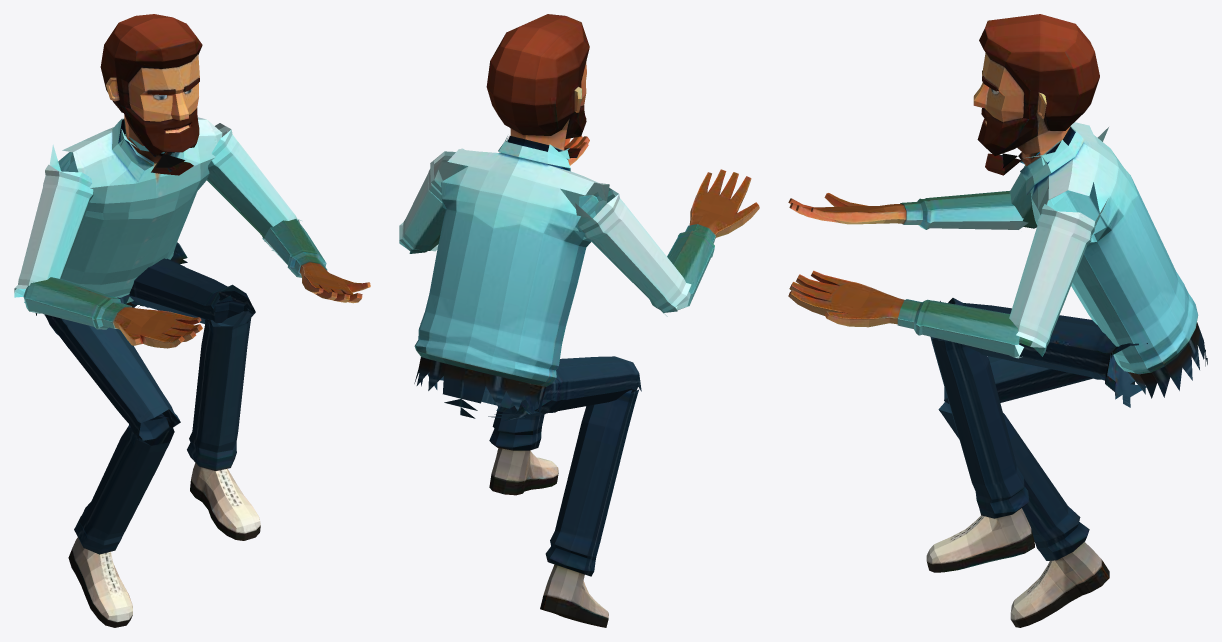
Rendered from cyclist.glb.
3 views of the same model, side by side, from view 1: azimuth 30°, elevation 25°; view 2: azimuth 150°, elevation 25°; view 3: azimuth 270°, elevation 25° (orthographic). The views are drawn at different scales.
Parts seen in each view (by area): view 1: torso, head, shin_L, shin_R, thigh_R, forearm_R, upperarm_R, thigh_L, upperarm_L, forearm_L; view 2: torso, shin_R, head, upperarm_R, forearm_R, thigh_R, shin_L, upperarm_L; view 3: torso, head, shin_L, shin_R, forearm_L, upperarm_L, forearm_R, thigh_L, thigh_R, upperarm_R.
Boxes of the visible parts, bbox=[...] form: torso: bbox=[35, 117, 222, 315]; head: bbox=[100, 14, 202, 156]; shin_L: bbox=[187, 295, 260, 540]; shin_R: bbox=[68, 415, 174, 627]; thigh_R: bbox=[44, 294, 180, 441]; forearm_R: bbox=[23, 277, 202, 348]; upperarm_R: bbox=[14, 144, 93, 302]; thigh_L: bbox=[129, 242, 255, 326]; upperarm_L: bbox=[207, 123, 302, 241]; forearm_L: bbox=[262, 218, 370, 303]; torso: bbox=[414, 136, 609, 418]; shin_R: bbox=[540, 389, 639, 627]; head: bbox=[486, 14, 589, 159]; upperarm_R: bbox=[575, 188, 691, 316]; forearm_R: bbox=[667, 169, 759, 310]; thigh_R: bbox=[488, 356, 641, 421]; shin_L: bbox=[489, 411, 558, 495]; upperarm_L: bbox=[399, 151, 467, 253]; torso: bbox=[985, 122, 1207, 398]; head: bbox=[973, 14, 1099, 165]; shin_L: bbox=[926, 336, 1034, 572]; shin_R: bbox=[938, 402, 1109, 627]; forearm_L: bbox=[788, 270, 1023, 358]; upperarm_L: bbox=[1009, 198, 1108, 356]; forearm_R: bbox=[788, 191, 1028, 229]; thigh_L: bbox=[937, 298, 1147, 407]; thigh_R: bbox=[944, 356, 1134, 403]; upperarm_R: bbox=[1009, 127, 1108, 228].
Bounding box in the file's own units: 0.7376 × 1.46 × 0.8832.
Materials: 1 (1 with a texture image).
